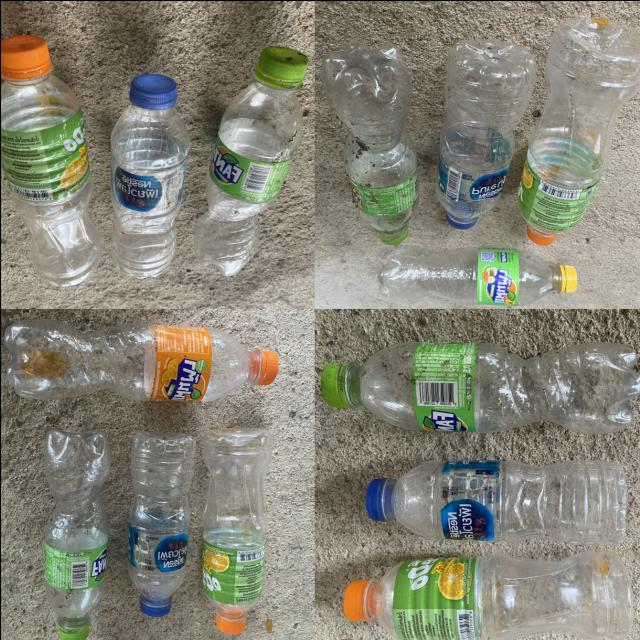plastik: (320, 342, 640, 433), (517, 17, 640, 245), (193, 46, 307, 275), (343, 551, 631, 640), (0, 34, 100, 286), (4, 318, 277, 400), (365, 459, 626, 544), (320, 38, 417, 244), (436, 38, 535, 228), (110, 74, 188, 278), (201, 427, 270, 633), (44, 429, 110, 640), (127, 431, 194, 616), (377, 245, 576, 305)
